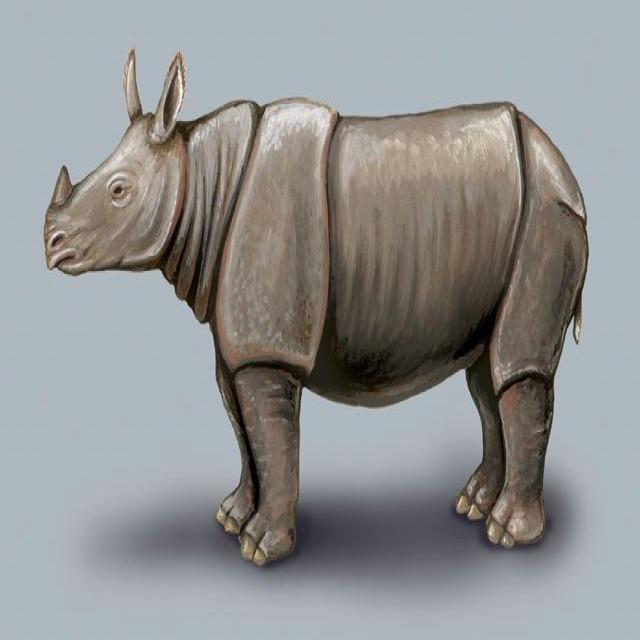rhinoceros: (45, 51, 588, 563)
